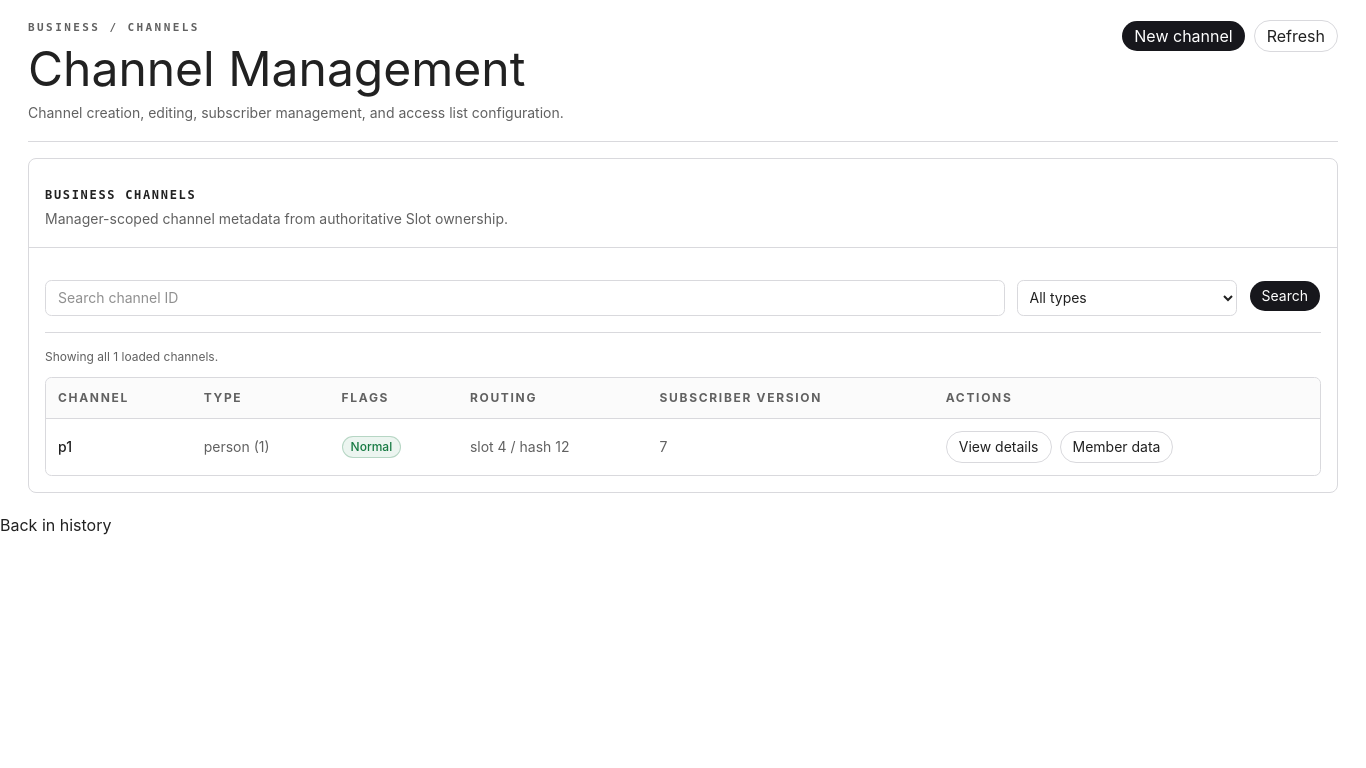
Test: disables ordinary subscriber edits for person channels
Step 1. Click the button with aria-label "View member data for channel p1" → {"x": 1116, "y": 446}, box [1060,430,1174,462]
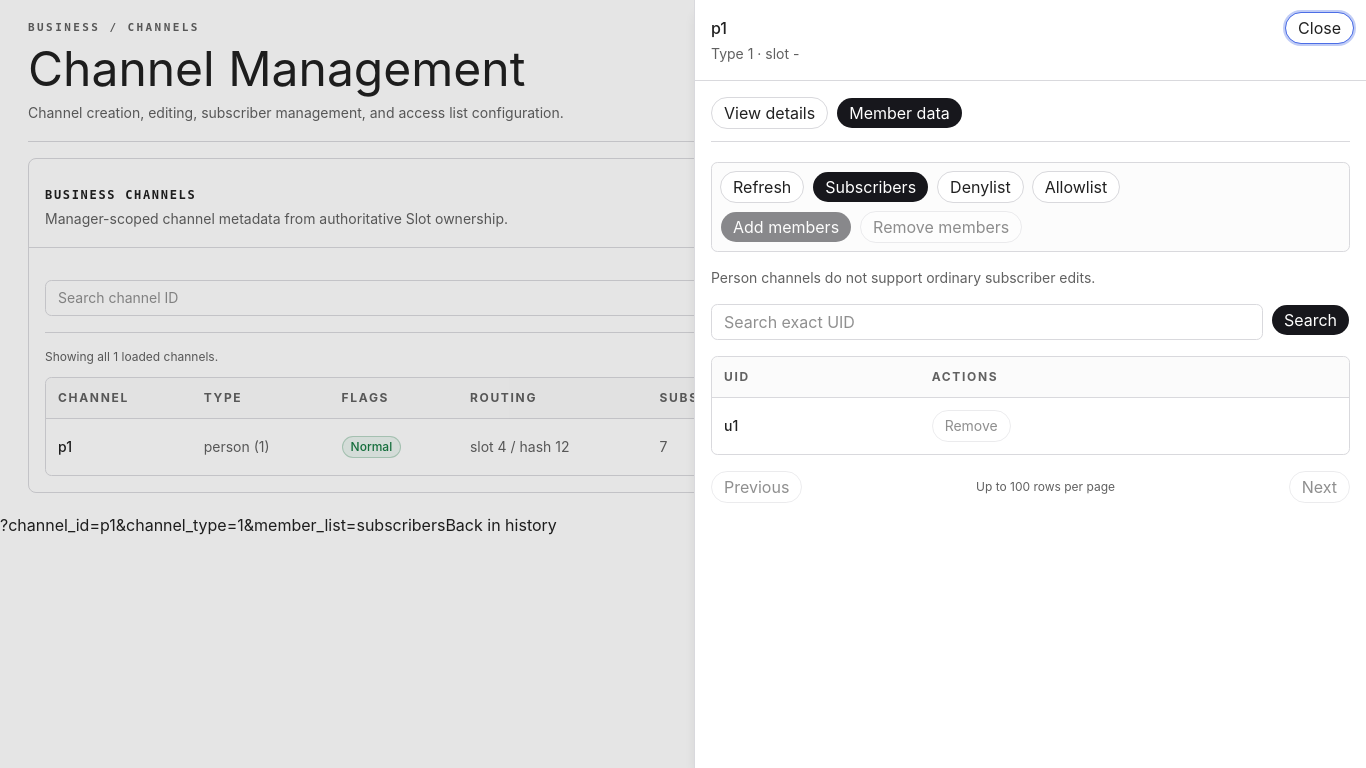
Result: the text "Person channels do not support ordinary subscriber edits." is shown at [711,269,1095,286]
Result: the button "Add members" is disabled at [720,211,852,243]
Result: the button with aria-label "Remove member u1" is disabled at [932,410,1011,442]
